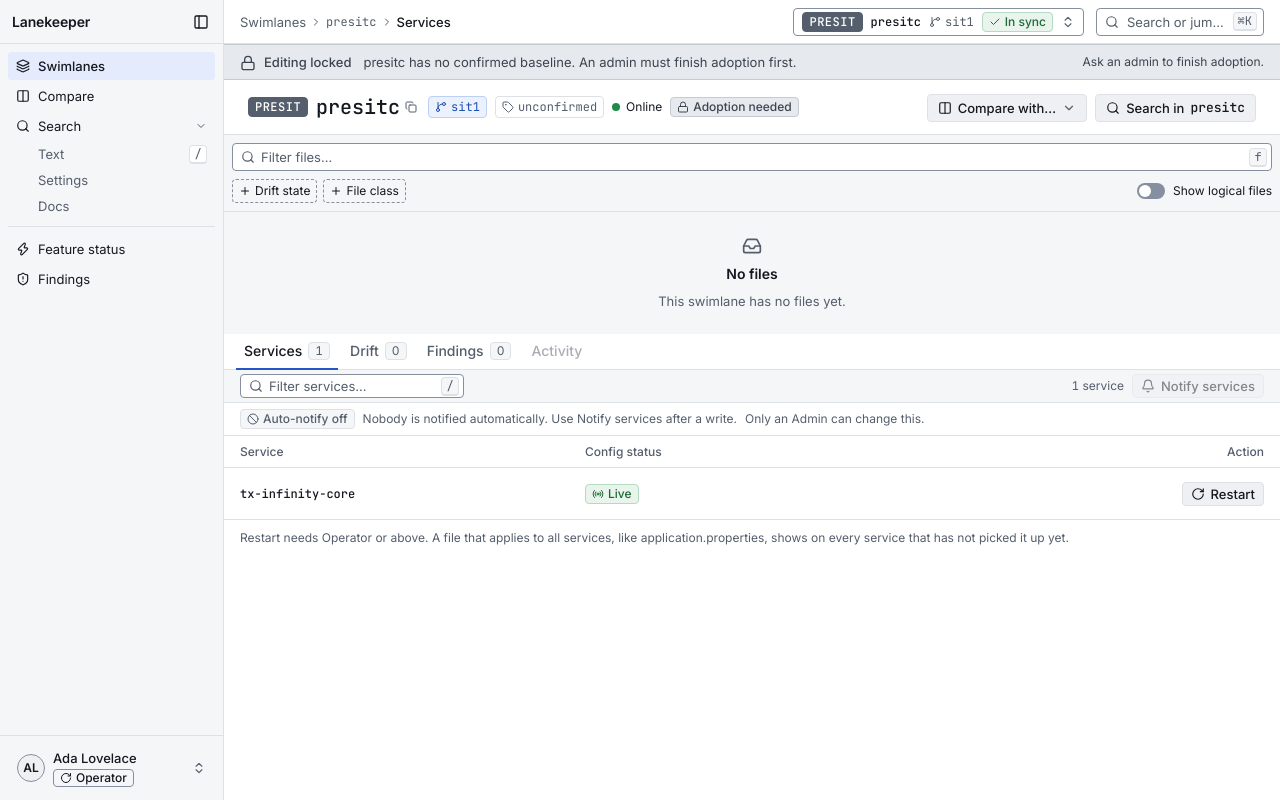
Scenario: restarting a service › derives the cause of a 423 from the baseline when the swimlane is not adopted
The image size is (1280, 800).
Click the button with aria-label "Restart tx-infinity-core": (1223, 494) [1182, 482, 1264, 506]
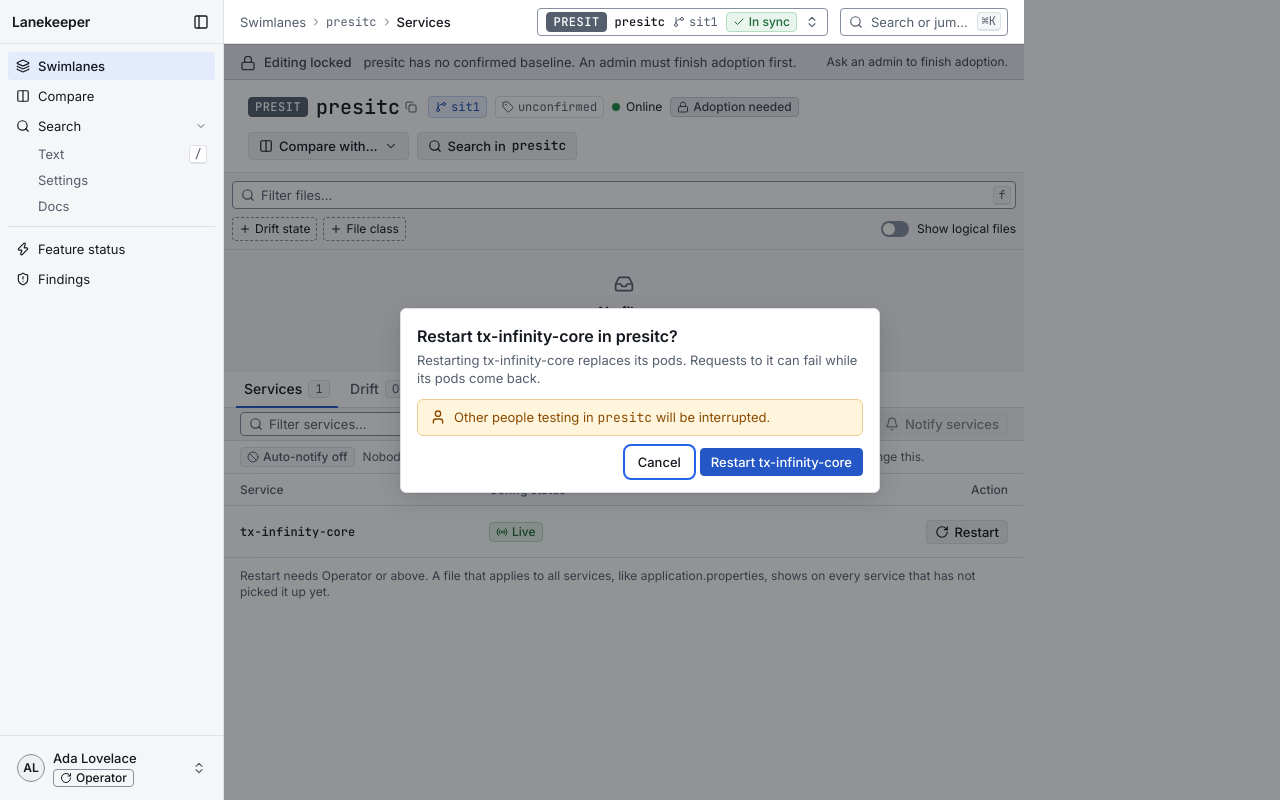
Click the button "Restart tx-infinity-core": (781, 462) [700, 448, 863, 476]
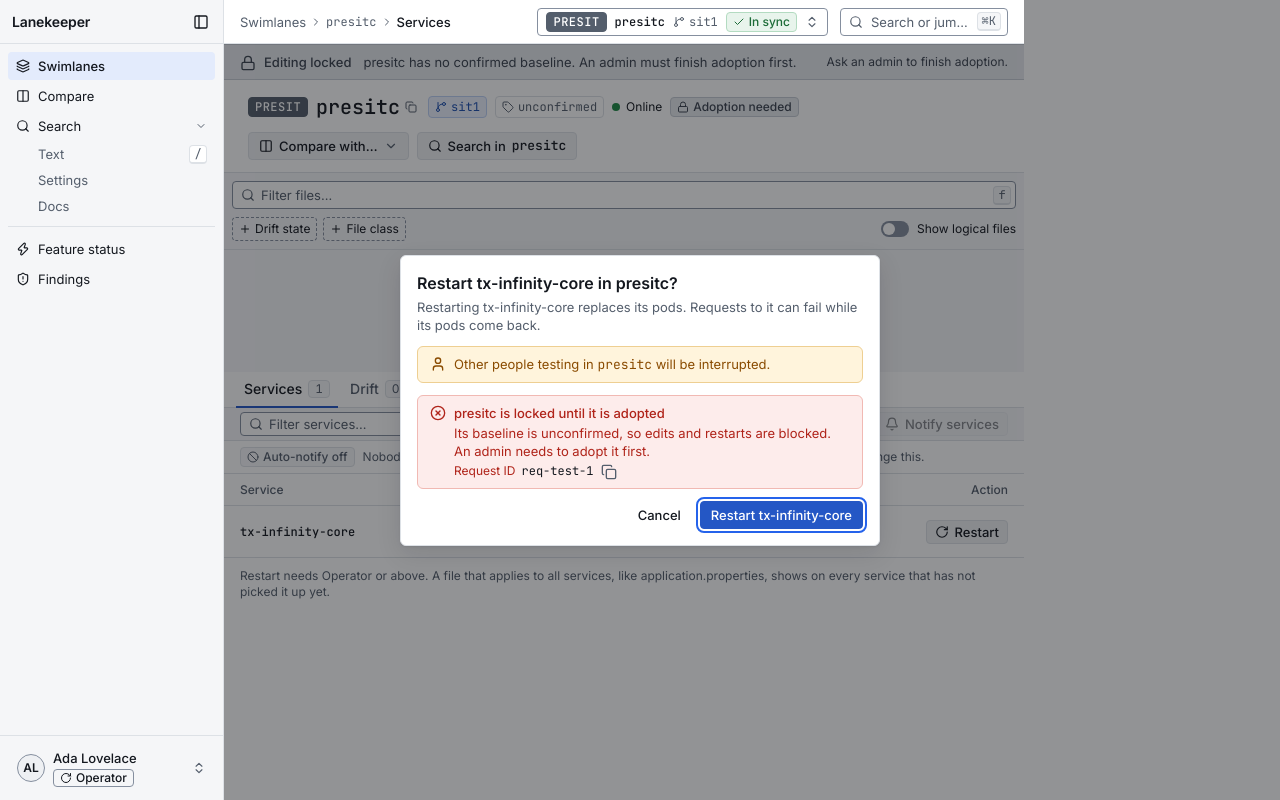
Expected: the text "presitc is locked until it is adopted" is shown, [454, 404, 665, 420]
